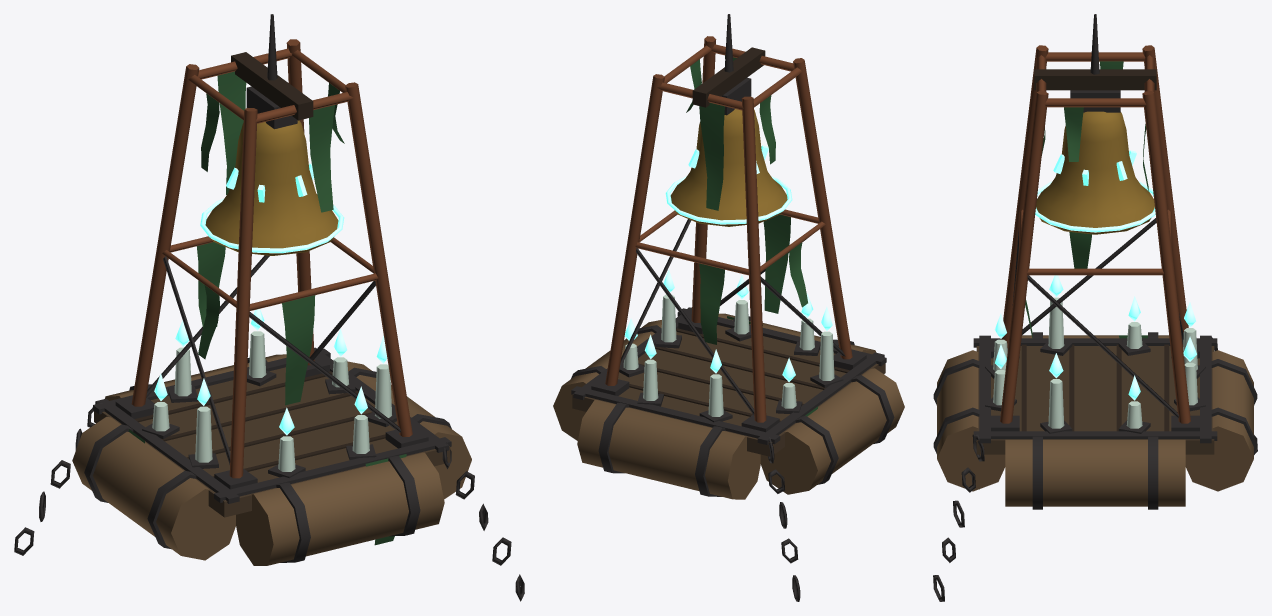
File: ghost-bell.glb
3 renders of one model, left to right at view 1: azimuth 30°, elevation 25°; view 2: azimuth 150°, elevation 25°; view 3: azimuth 270°, elevation 25°, orthographic. The views are drawn at different scales.
Visible parts, largest first — view 1: Mesh_Float0, Mesh_Deck, Mesh_Float3, Mesh_BellBody, Mesh_FramePost1, Mesh_FramePost0, Mesh_FramePost2, Mesh_Seaweed4, Mesh_Float2, Mesh_Headstock, Mesh_Seaweed0, Mesh_DeckStrap1 (+24 smaller); view 2: Mesh_Float1, Mesh_Deck, Mesh_Float3, Mesh_BellBody, Mesh_FramePost2, Mesh_FramePost3, Mesh_FramePost1, Mesh_Seaweed2, Mesh_Seaweed4, Mesh_Float2, Mesh_DeckStrap0, Mesh_Headstock (+25 smaller); view 3: Mesh_Deck, Mesh_Float2, Mesh_BellBody, Mesh_Float1, Mesh_Float0, Mesh_FramePost0, Mesh_FramePost3, Mesh_Headstock, Mesh_DeckStrap3, Mesh_FramePost1, Mesh_FramePost2, Mesh_DeckStrap1 (+20 smaller).
Boxes of the visible parts, x1,y1,x2,y2 form: Mesh_Float0: [236, 452, 444, 565]; Mesh_Deck: [94, 367, 450, 517]; Mesh_Float3: [72, 416, 235, 560]; Mesh_BellBody: [205, 120, 338, 255]; Mesh_FramePost1: [229, 108, 257, 478]; Mesh_FramePost0: [345, 82, 412, 436]; Mesh_FramePost2: [131, 64, 199, 406]; Mesh_Seaweed4: [282, 295, 315, 405]; Mesh_Float2: [347, 361, 471, 499]; Mesh_Headstock: [231, 52, 313, 120]; Mesh_Seaweed0: [309, 105, 334, 212]; Mesh_DeckStrap1: [214, 437, 451, 502]; Mesh_Float1: [577, 400, 760, 499]; Mesh_Deck: [572, 325, 885, 456]; Mesh_Float3: [760, 368, 904, 494]; Mesh_BellBody: [670, 109, 787, 226]; Mesh_FramePost2: [741, 96, 766, 422]; Mesh_FramePost3: [605, 74, 664, 385]; Mesh_FramePost1: [793, 58, 852, 359]; Mesh_Seaweed2: [699, 103, 724, 210]; Mesh_Seaweed4: [763, 214, 790, 313]; Mesh_Float2: [553, 320, 661, 440]; Mesh_DeckStrap0: [571, 386, 780, 444]; Mesh_Headstock: [692, 47, 765, 107]; Mesh_Deck: [976, 346, 1214, 454]; Mesh_Float2: [1005, 439, 1185, 506]; Mesh_BellBody: [1036, 111, 1154, 234]; Mesh_Float1: [1185, 350, 1253, 491]; Mesh_Float0: [937, 350, 1005, 491]; Mesh_FramePost0: [1000, 91, 1048, 423]; Mesh_FramePost3: [1142, 91, 1190, 423]; Mesh_Headstock: [1034, 69, 1156, 90]; Mesh_DeckStrap3: [973, 431, 1217, 440]; Mesh_FramePost1: [1000, 45, 1048, 347]; Mesh_FramePost2: [1142, 45, 1188, 347]; Mesh_DeckStrap1: [979, 335, 990, 443].
Size of the model in its own units: 4.94 by 7.88 by 4.51.
